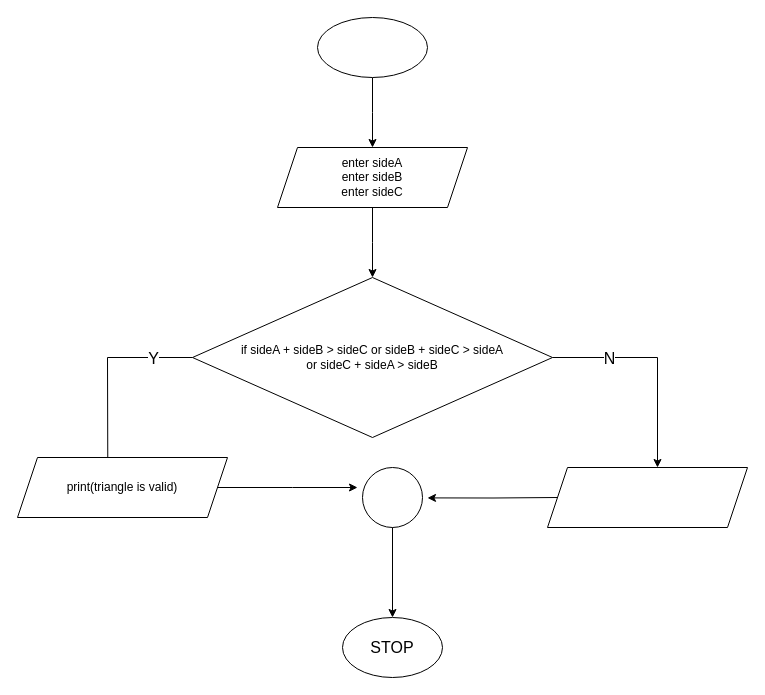
Some shapes in this 765 by 695 pixel diagram are drawn without their labels. Each missing label, with the centre of its shape:
"print(triangle is not valid)" belongs at point 647,497.
"START" belongs at point 372,47.
